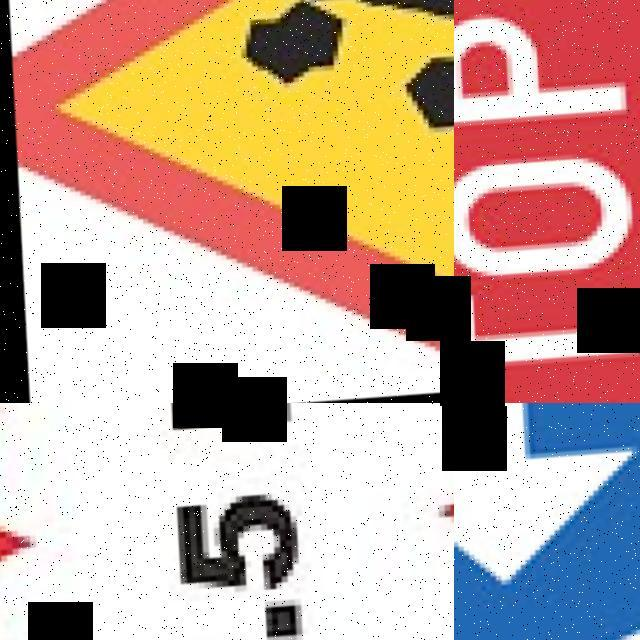158: (0, 0, 454, 403)
Direction to be followed: (454, 403, 640, 640)
Height limit-3-5m: (0, 403, 454, 640)
Stop: (454, 0, 640, 403)
